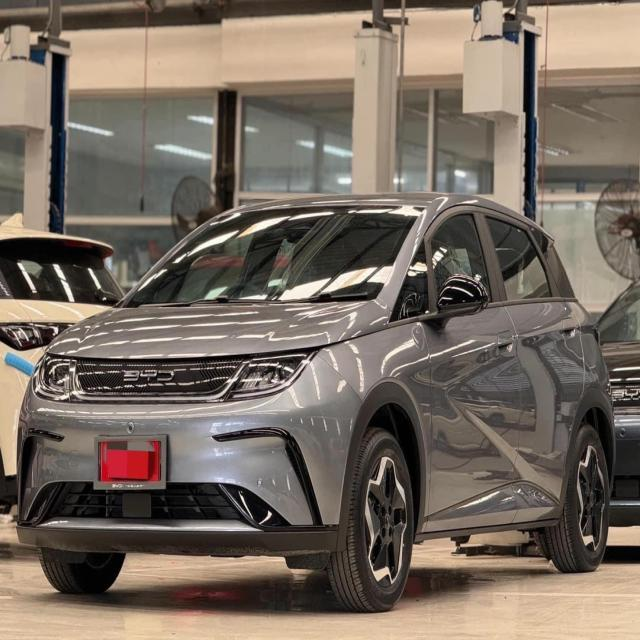Hatchback: (13, 193, 640, 615)
